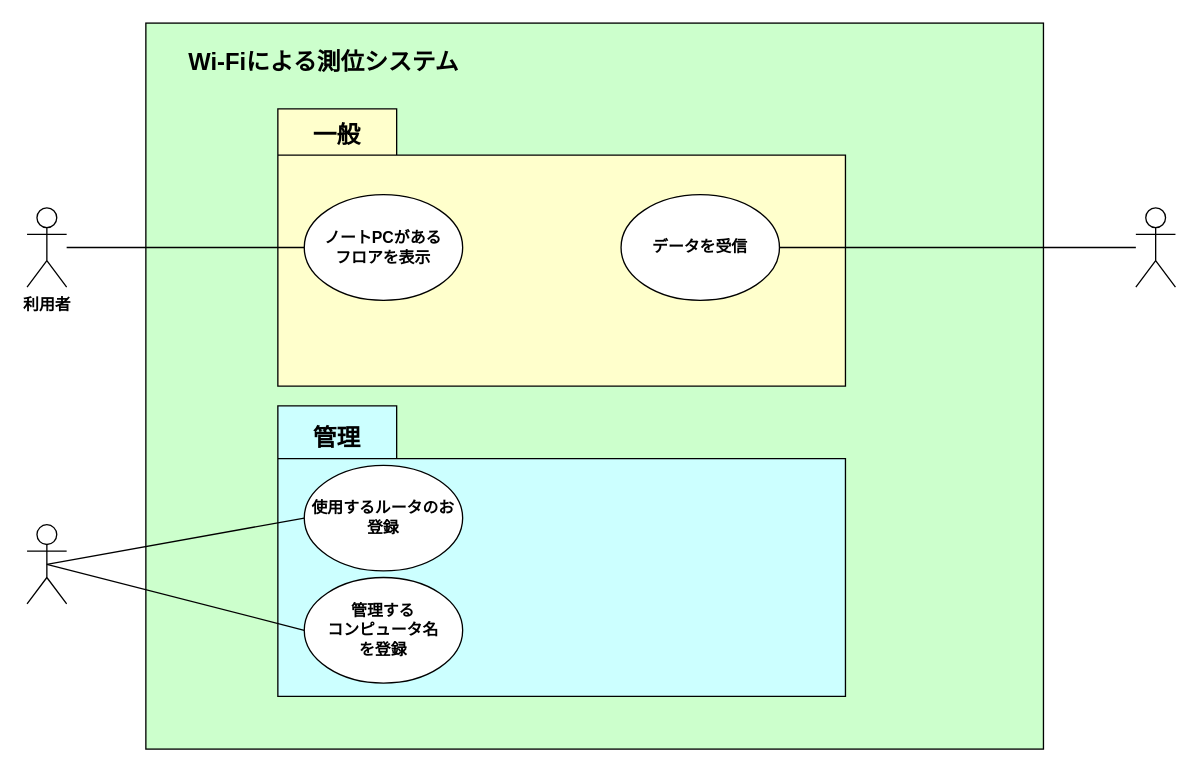
Some shapes in this 1201 by 772 pixel diagram are drawn without their labels. The shapes that lost their labels are listed below. From the top down, each one's centre as x and y in pixels, then its label:
At (x=1155, y=247): "ルータ".
At (x=46, y=563): "管理者".
